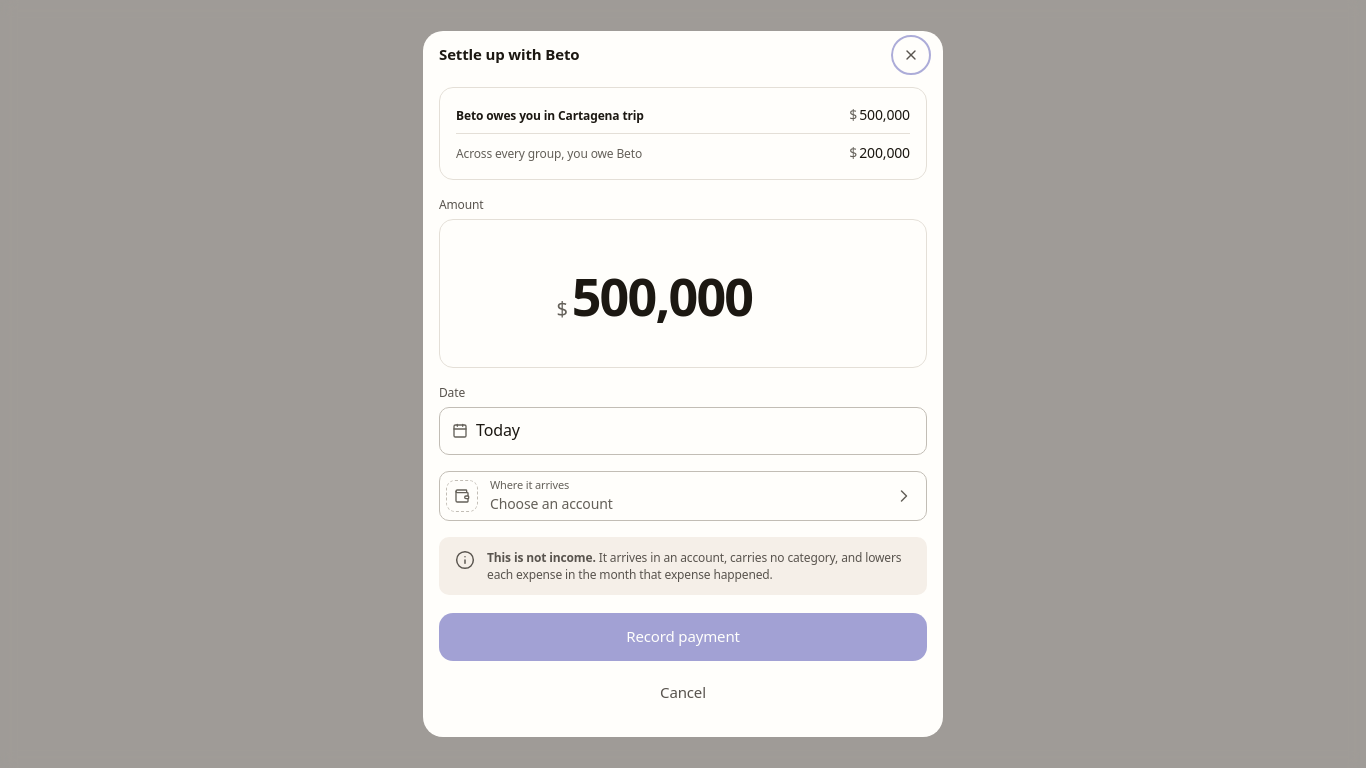
Test: the settle-up sheet › keeps the group's direction and caps at the group when the total points the other way
This screenshot has width=1366, height=768.
Expected: the dialog "Settle up with Beto" is shown, [423,31,943,737]
Expected: the text "Across every group, you owe Beto" is shown, [456,145,642,162]
In the field labelled "Amount": point(691, 295) [572,260,810,331], type "1"
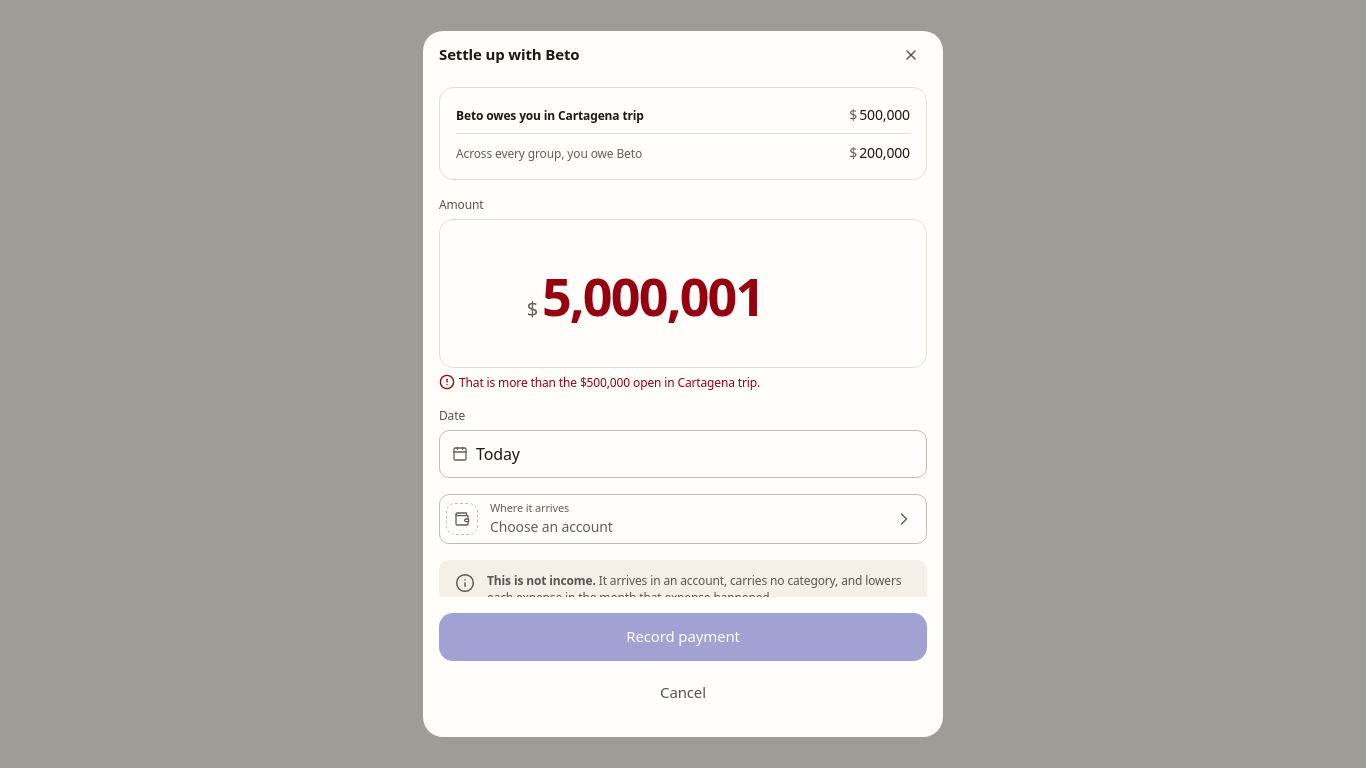
Expected: the text "That is more than the $500,000 open in Cartagena trip." is shown, [439,374,760,391]
